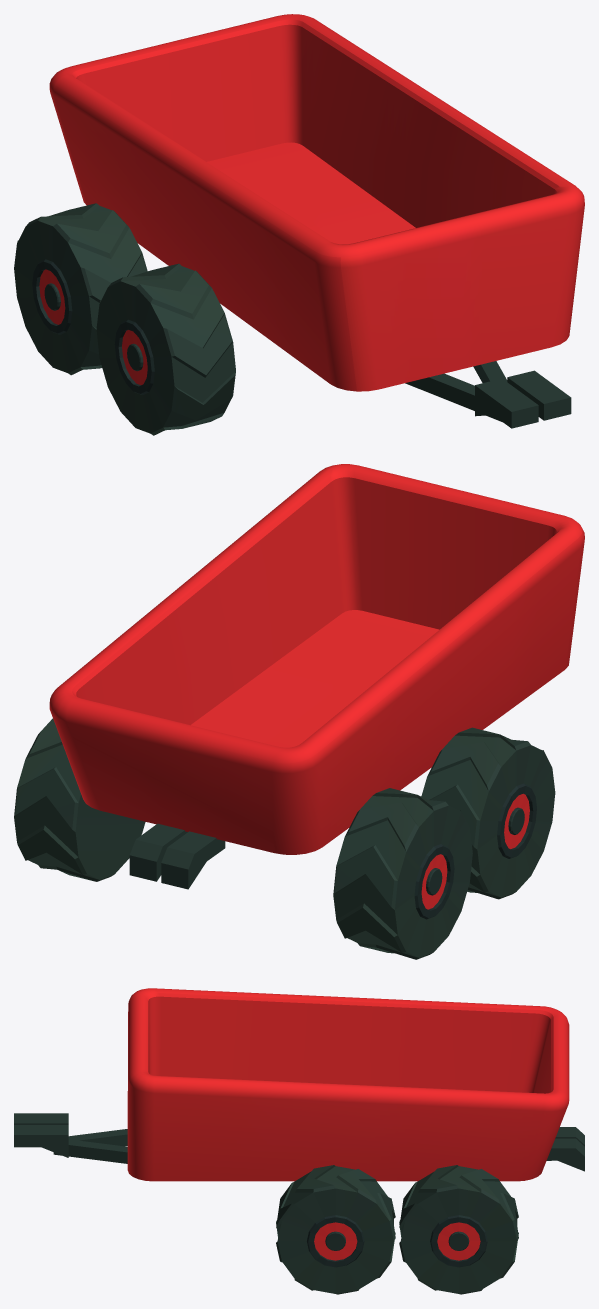
Rendered from Carrier_big.fbx.
3 views of the same model, one above another, from view 1: azimuth 30°, elevation 25°; view 2: azimuth 150°, elevation 25°; view 3: azimuth 270°, elevation 25° (orthographic). The views are drawn at different scales.
Visible parts, largest first — view 1: Carrier_big, Front wheelsss, Back wheelss; view 2: Carrier_big, Back wheelss, Front wheelsss; view 3: Carrier_big, Back wheelss, Front wheelsss.
Part boxes in pixels (bbox=[...]): Carrier_big: bbox=[49, 14, 584, 428]; Front wheelsss: bbox=[96, 263, 235, 435]; Back wheelss: bbox=[14, 203, 147, 375]; Carrier_big: bbox=[49, 464, 584, 889]; Back wheelss: bbox=[14, 718, 472, 959]; Front wheelsss: bbox=[421, 727, 555, 899]; Carrier_big: bbox=[14, 988, 584, 1181]; Back wheelss: bbox=[399, 1165, 518, 1294]; Front wheelsss: bbox=[276, 1165, 395, 1294].
Size of the model in its own units: 2.72 by 1.76 by 4.68.
